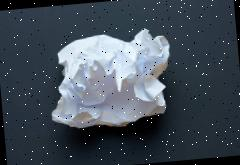paper: (43, 26, 176, 132)
